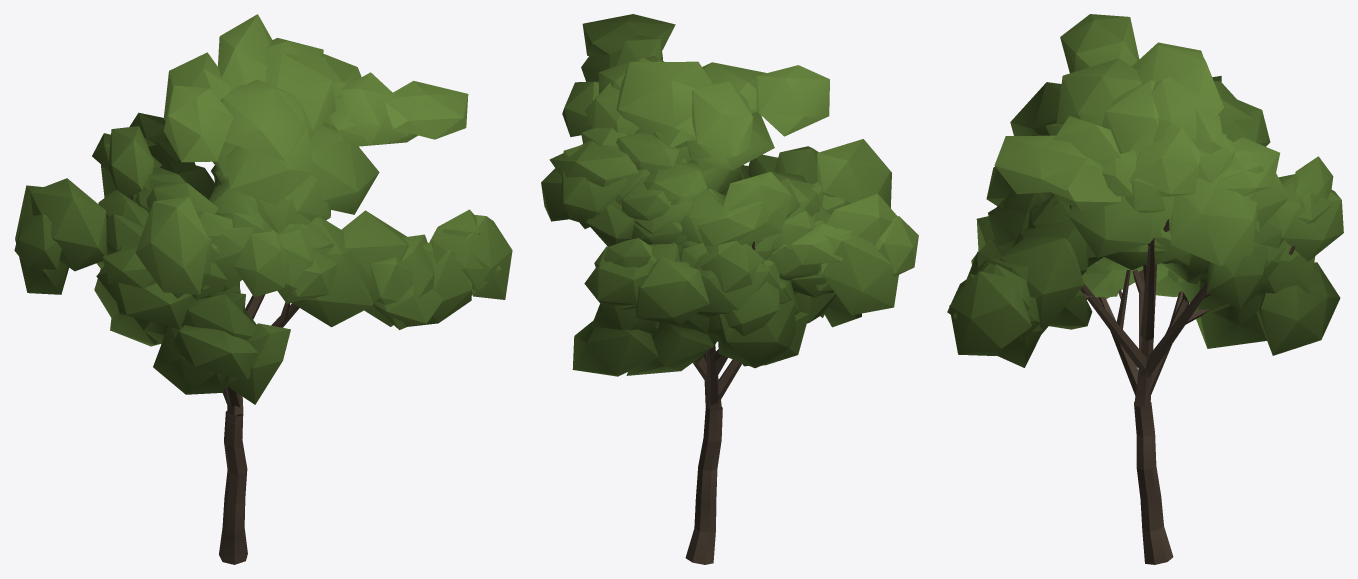
File: tree_lime.glb
The picture shows the model from 3 angles, left to right: view 1: azimuth 30°, elevation 25°; view 2: azimuth 150°, elevation 25°; view 3: azimuth 270°, elevation 25°; orthographic projection. The views are drawn at different scales.
Visible parts, largest first — view 1: tree_lime; view 2: tree_lime; view 3: tree_lime.
Part boxes in pixels (left/top/right/bottom): tree_lime: left=14, top=14, right=512, bottom=564; tree_lime: left=541, top=14, right=918, bottom=564; tree_lime: left=947, top=14, right=1343, bottom=564.
Size of the model in its own units: 7.92 by 9.51 by 6.54.
